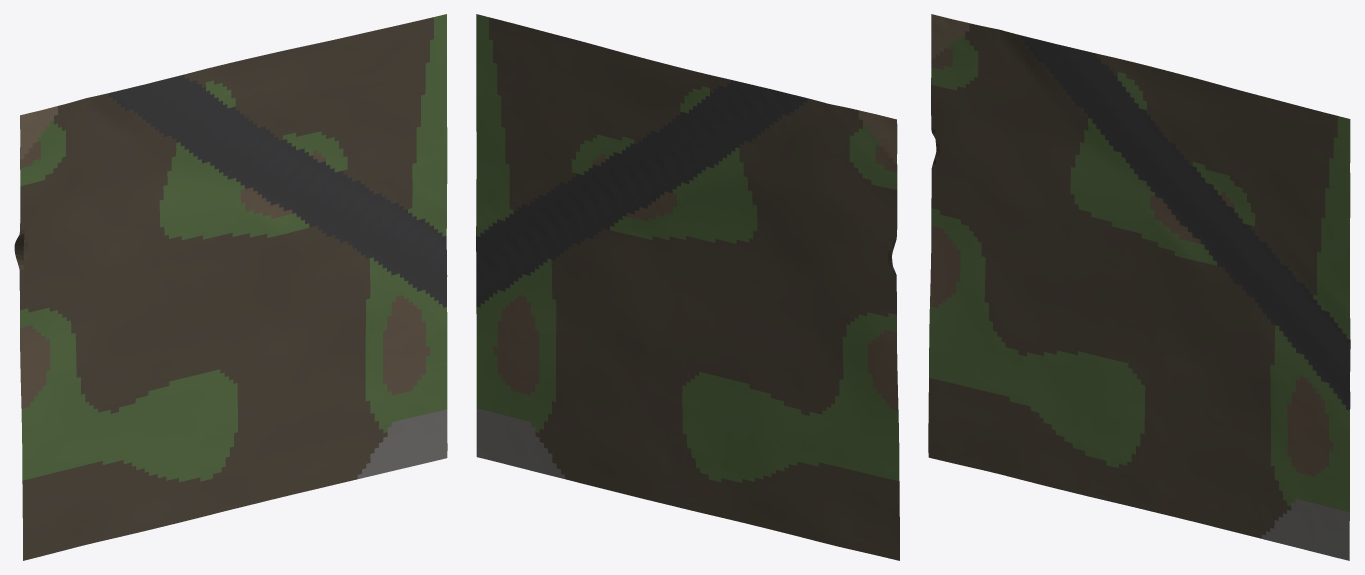
File: SARM_SAR_Terrain_01_01.glb
The picture shows the model from 3 angles, left to right: view 1: azimuth 30°, elevation 25°; view 2: azimuth 150°, elevation 25°; view 3: azimuth 330°, elevation 25°; orthographic projection.
Parts seen in each view (by area): view 1: SAR_Terrain_01_01.001; view 2: SAR_Terrain_01_01.001; view 3: SAR_Terrain_01_01.001.
Part boxes in pixels (box(x1,y1,x2,y2)): SAR_Terrain_01_01.001: box(14, 14, 447, 560); SAR_Terrain_01_01.001: box(476, 14, 899, 560); SAR_Terrain_01_01.001: box(928, 14, 1350, 560).
Bounding box in the file's own units: 50 × 50 × 1.86.
